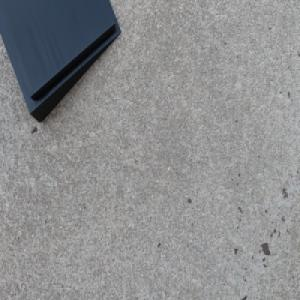PlasticPart: (0, 0, 122, 124)
